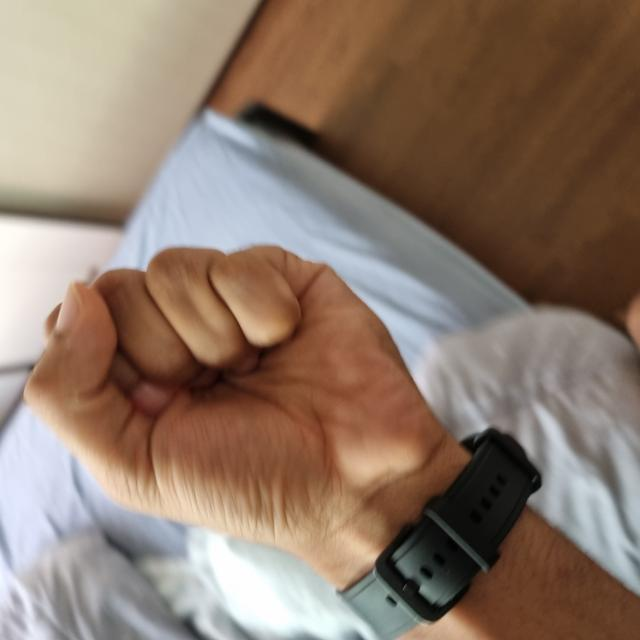Rock: (65, 26, 392, 449)
